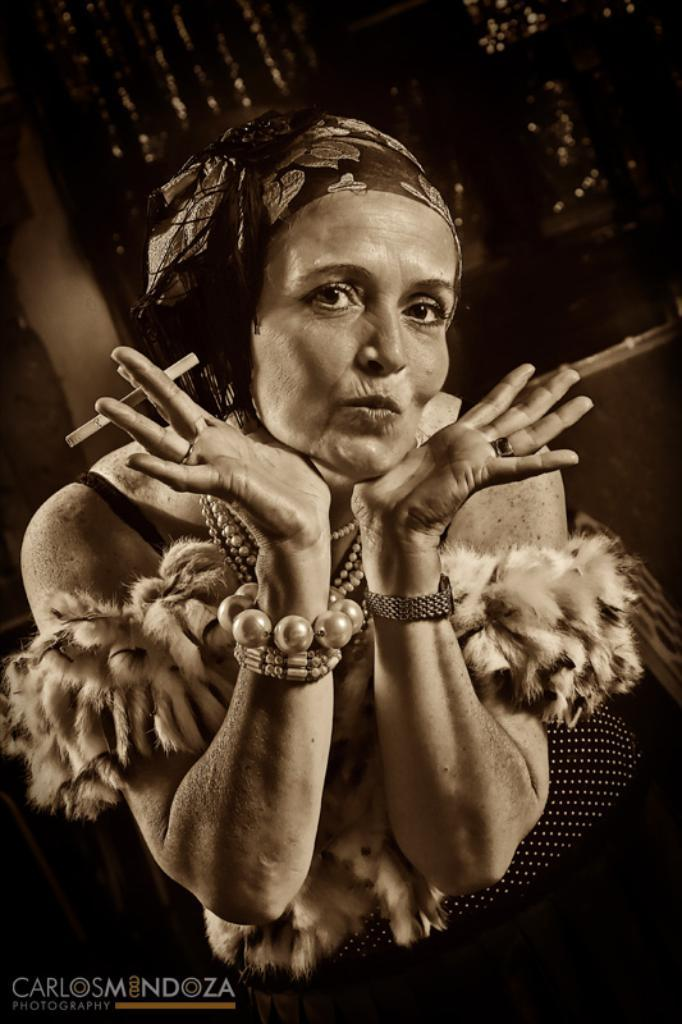Sem Máscara: (252, 193, 456, 477)
